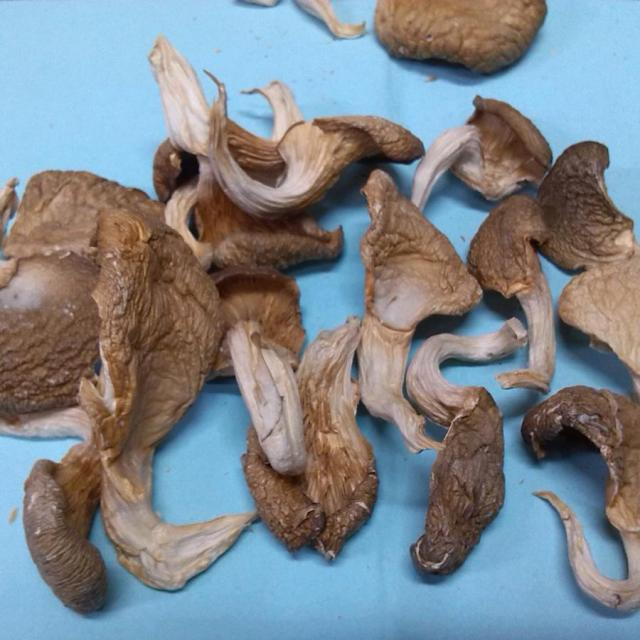Hypsizygus marmoreus: (87, 219, 253, 582), (147, 50, 341, 277), (228, 303, 379, 558), (5, 168, 141, 440), (201, 71, 415, 216), (424, 324, 529, 581), (525, 386, 640, 611), (544, 144, 640, 389), (358, 175, 444, 439), (471, 195, 563, 396), (416, 100, 553, 217), (28, 436, 111, 607)
